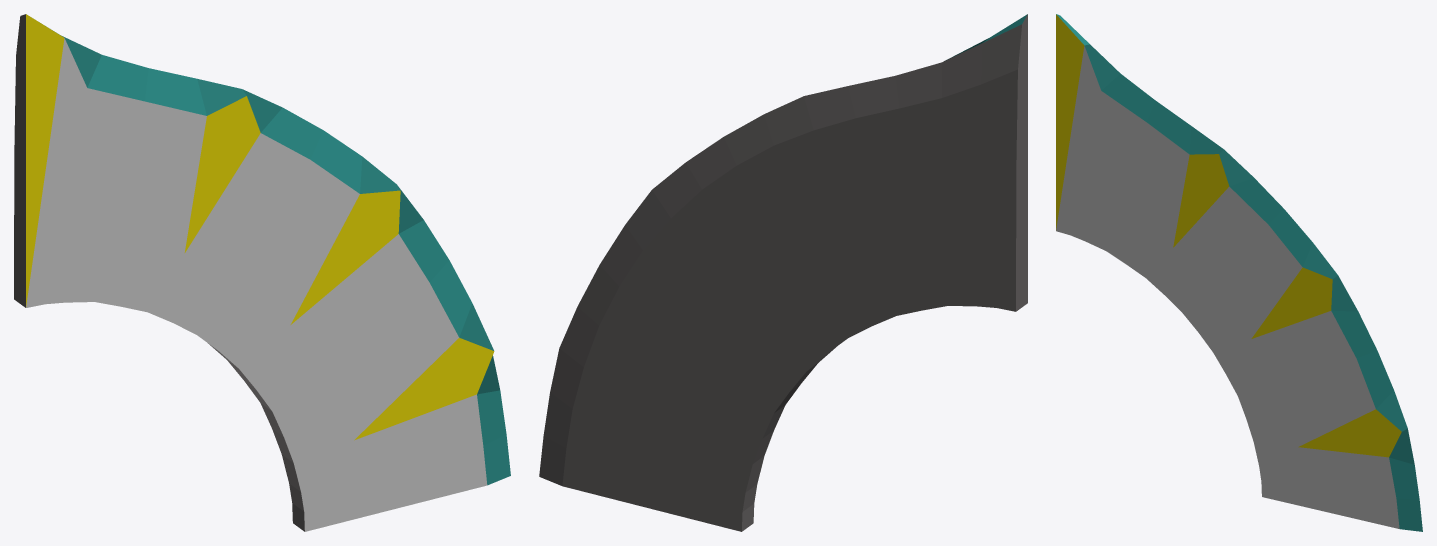
The model's file is PlaEqui canto3.fbx.
3 renders of one model, left to right at view 1: azimuth 30°, elevation 25°; view 2: azimuth 150°, elevation 25°; view 3: azimuth 330°, elevation 25°, orthographic. The views are drawn at different scales.
Visible parts, largest first — view 1: disco baixo, brilhos, disco baixo.002, disco baixo.001; view 2: disco baixo; view 3: disco baixo, brilhos, disco baixo.002, disco baixo.001.
Boxes of the visible parts, box(x1,y1,x2,y2) form: disco baixo: box(14, 14, 487, 531); brilhos: box(26, 14, 494, 440); disco baixo.002: box(52, 30, 510, 485); disco baixo.001: box(62, 36, 499, 394); disco baixo: box(539, 14, 1027, 531); disco baixo: box(1056, 46, 1399, 528); brilhos: box(1056, 14, 1401, 457); disco baixo.002: box(1056, 14, 1422, 531); disco baixo.001: box(1084, 44, 1414, 464).
Size of the model in its own units: 189 by 215 by 8.
